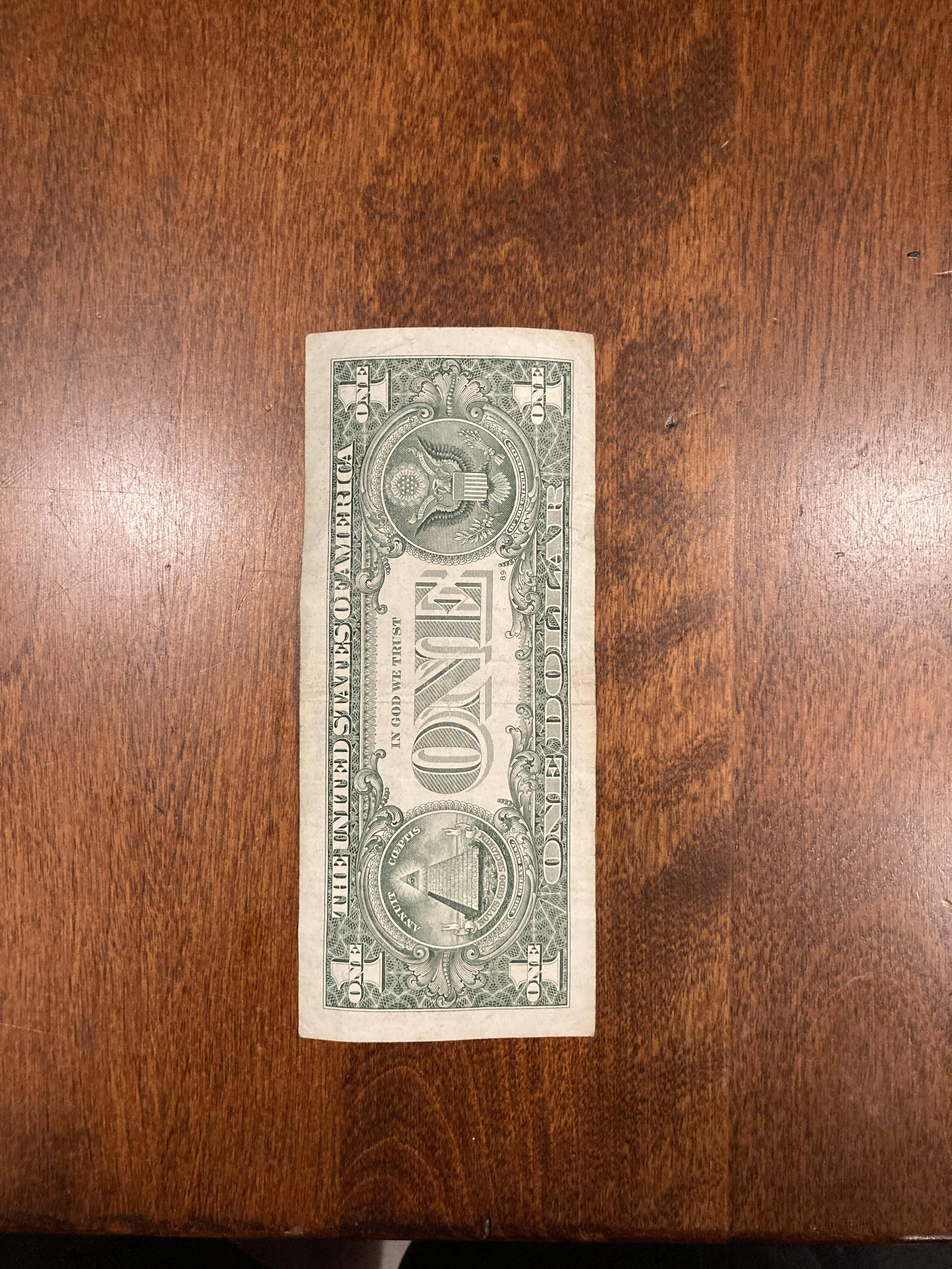one-back: (299, 324, 600, 1045)
